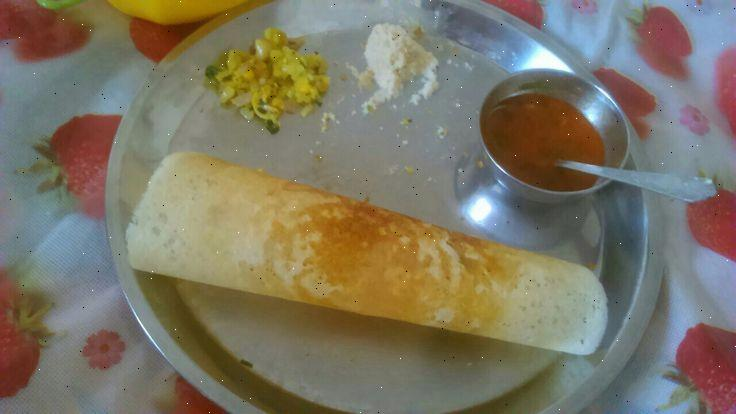dosa: (101, 158, 637, 390)
